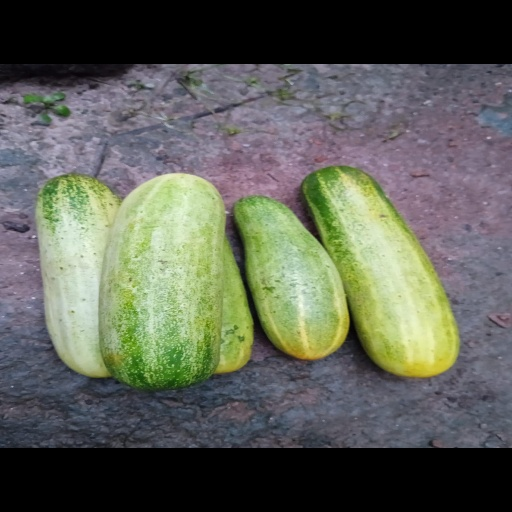concombre: (299, 166, 460, 379), (98, 173, 227, 393), (233, 195, 350, 363), (35, 173, 122, 379), (213, 234, 254, 376)
